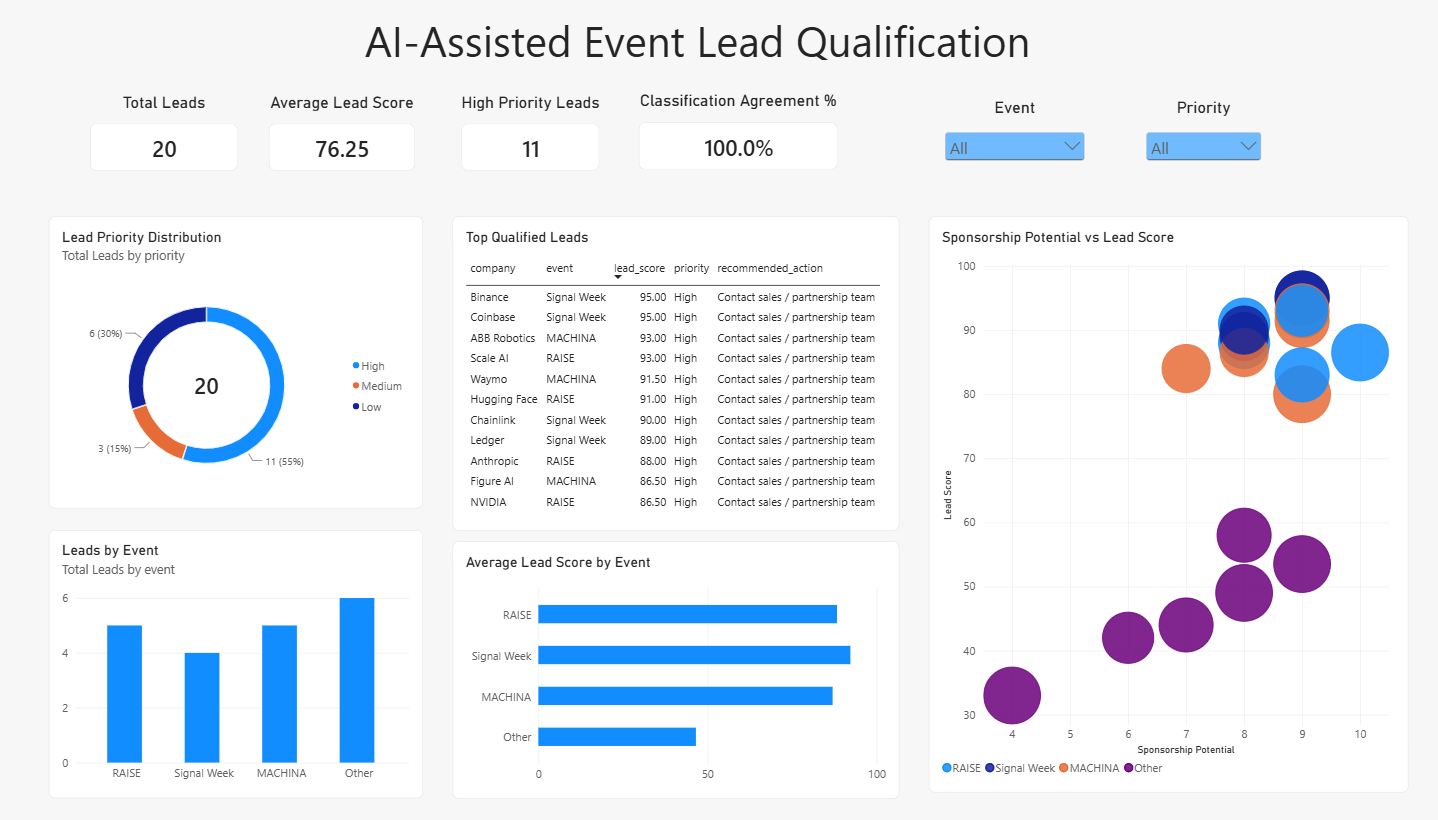

Layout of this report page (visuals, bound fields, positions):
{"tool":"powerbi","page":{"name":"Lead Overview","canvas":[1920,1080],"ordinal":0},"visuals":[{"type":"cardVisual","title":"Total Leads","fields":{"Data":["lead_qualification_results.Total Leads"]},"box":[190,135.7,187.5,100],"z":0},{"type":"cardVisual","title":"Average Lead Score","fields":{"Data":["lead_qualification_results.Average Lead Score"]},"box":[417.1,135.7,185.7,100],"z":1000},{"type":"donutChart","title":"Lead Priority Distribution","fields":{"Category":["lead_qualification_results.priority"],"Y":["lead_qualification_results.Total Leads"]},"box":[138.6,292.9,474.3,370],"z":2000},{"type":"clusteredColumnChart","title":"Leads by Event","fields":{"Category":["lead_qualification_results.event"],"Y":["lead_qualification_results.Total Leads"]},"box":[138.6,691.4,474.3,340],"z":3000},{"type":"textbox","box":[414.3,32.9,1090,88],"z":4000},{"type":"cardVisual","title":"High Priority Leads","fields":{"Data":["lead_qualification_results.High Priority Leads"]},"box":[660,135.7,175.7,100],"z":5000},{"type":"cardVisual","title":"Classification Agreement %","fields":{"Data":["lead_qualification_results.Classifiaction Agreemengt %"]},"box":[885,135,252.5,100],"z":6000},{"type":"tableEx","title":"Top Qualified Leads","fields":{"Values":["lead_qualification_results.company","lead_qualification_results.event","lead_qualification_results.lead_score","lead_qualification_results.priority","lead_qualification_results.recommended_action"]},"box":[650,293.3,566.7,398.3],"z":7000},{"type":"clusteredBarChart","title":"Average Lead Score by Event","fields":{"Category":["lead_qualification_results.event"],"Y":["lead_qualification_results.Average Lead Score"]},"box":[650,705,566.7,326.7],"z":8000},{"type":"scatterChart","title":"Sponsorship Potential vs Lead Score","fields":{"Category":["lead_qualification_results.company"],"Series":["lead_qualification_results.event"],"Size":["Sum(lead_qualification_results.company_size)"],"X":["Sum(lead_qualification_results.sponsorship_potential)"],"Y":["Sum(lead_qualification_results.lead_score)"]},"box":[1252.9,292.9,608.3,730],"z":9000},{"type":"slicer","title":"Event","fields":{"Values":["lead_qualification_results.event"]},"box":[1268.3,143.3,186.7,83.3],"z":10000},{"type":"slicer","title":"Priority","fields":{"Values":["lead_qualification_results.priority"]},"box":[1523.3,143.3,155,83.3],"z":11000}]}

Visuals, with their boxes in screenshot pixels (x1, y1, x2, y2), scaled from the page's 1920x1080 canvas onto the 1438x820 screenshot:
"Total Leads" cardVisual: 142, 103, 283, 179
"Average Lead Score" cardVisual: 312, 103, 451, 179
"Lead Priority Distribution" donutChart: 104, 222, 459, 503
"Leads by Event" clusteredColumnChart: 104, 525, 459, 783
textbox: 310, 25, 1127, 92
"High Priority Leads" cardVisual: 494, 103, 626, 179
"Classification Agreement %" cardVisual: 663, 102, 852, 178
"Top Qualified Leads" tableEx: 487, 223, 911, 525
"Average Lead Score by Event" clusteredBarChart: 487, 535, 911, 783
"Sponsorship Potential vs Lead Score" scatterChart: 938, 222, 1394, 777
"Event" slicer: 950, 109, 1090, 172
"Priority" slicer: 1141, 109, 1257, 172
